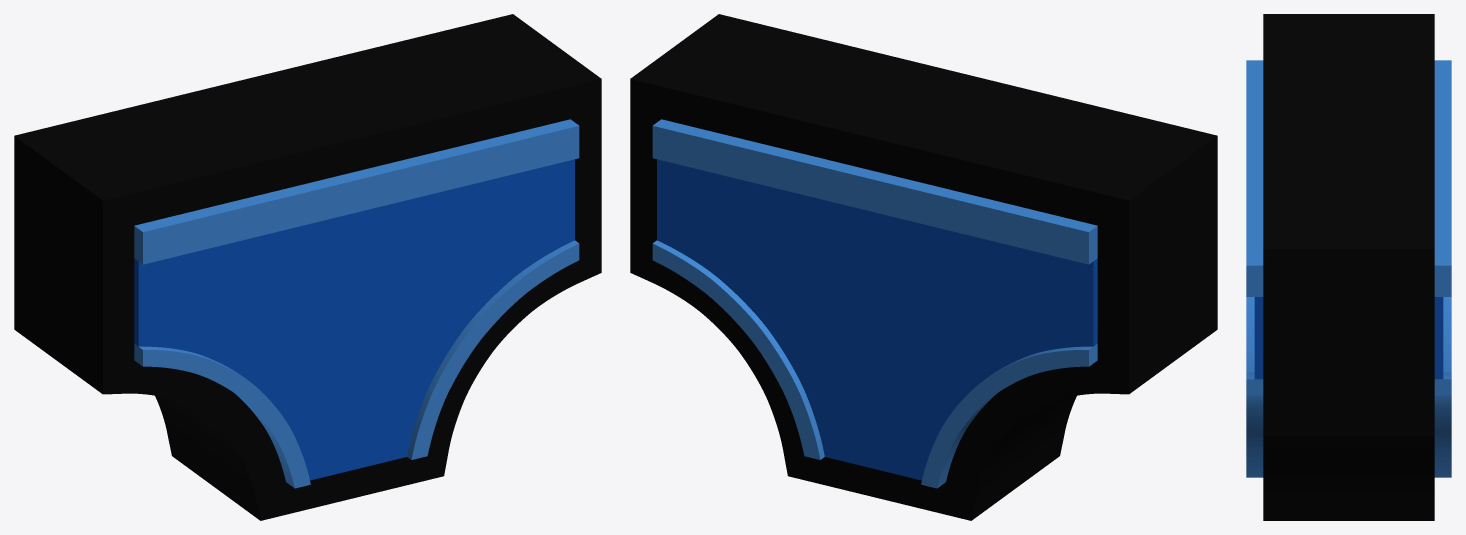
3 renders of one model, left to right at view 1: azimuth 30°, elevation 25°; view 2: azimuth 150°, elevation 25°; view 3: azimuth 270°, elevation 25°, orthographic. The views are drawn at different scales.
Visible parts, largest first — view 1: U+1FA72_layer00_obj00, U+1FA72_layer01_obj00, U+1FA72_layer02_obj00; view 2: U+1FA72_layer00_obj00, U+1FA72_layer01_obj00, U+1FA72_layer02_obj00; view 3: U+1FA72_layer00_obj00, U+1FA72_layer02_obj00, U+1FA72_layer01_obj00.
Part boxes in pixels (box(x1,y1,x2,y2)): U+1FA72_layer00_obj00: box(14, 14, 601, 520); U+1FA72_layer01_obj00: box(134, 159, 574, 480); U+1FA72_layer02_obj00: box(134, 119, 579, 488); U+1FA72_layer00_obj00: box(630, 14, 1217, 520); U+1FA72_layer01_obj00: box(657, 159, 1097, 480); U+1FA72_layer02_obj00: box(652, 119, 1097, 488); U+1FA72_layer00_obj00: box(1263, 14, 1434, 520); U+1FA72_layer02_obj00: box(1246, 60, 1451, 477); U+1FA72_layer01_obj00: box(1254, 297, 1443, 379).
Bounding box in the file's own units: 0.6491 × 0.4461 × 0.24.
